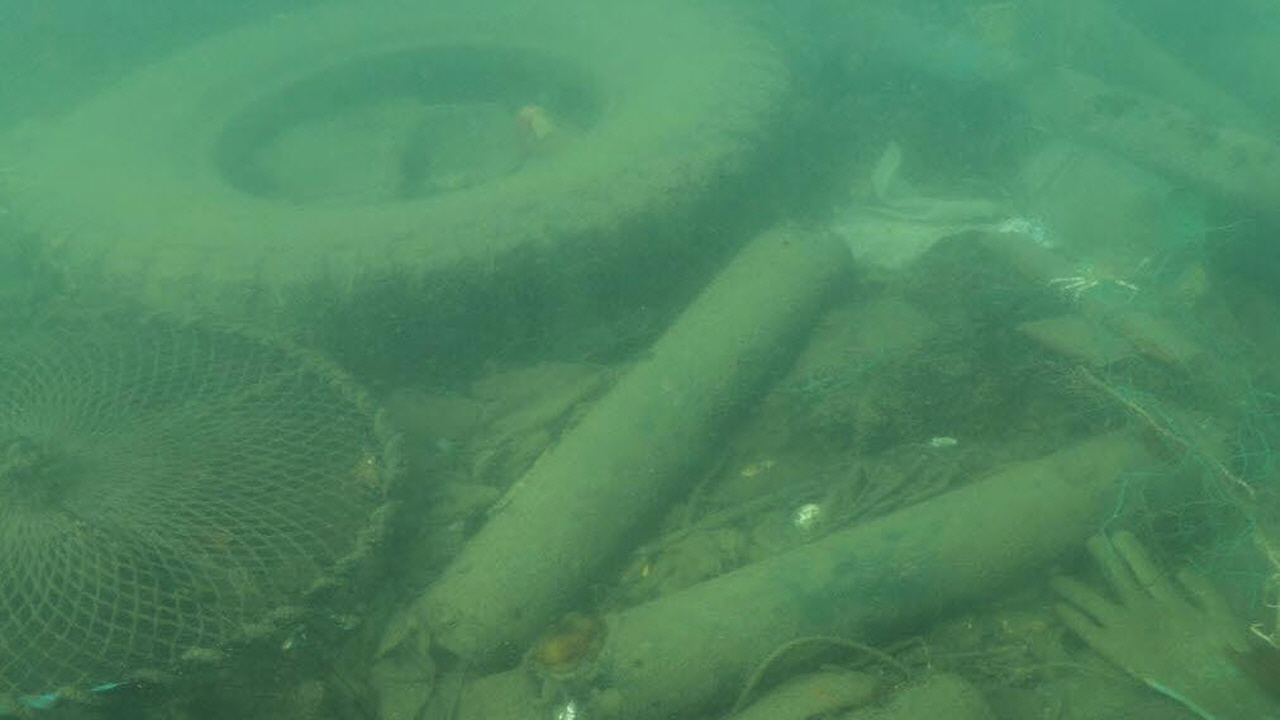circular fish trap: (0, 300, 404, 720)
eel fish trap: (411, 218, 858, 672), (580, 429, 1169, 720)
tire: (0, 0, 791, 373)
